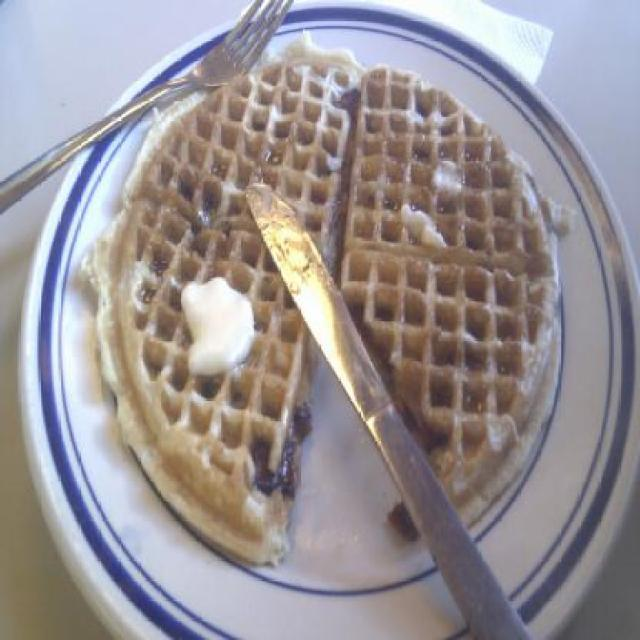Waffle: (78, 29, 576, 565)
